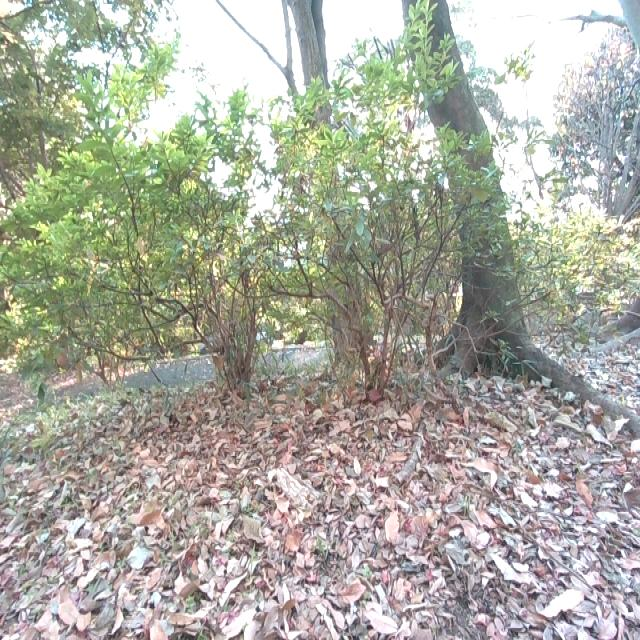bush: (0, 53, 627, 414)
tree: (402, 0, 623, 432), (208, 0, 384, 376)
